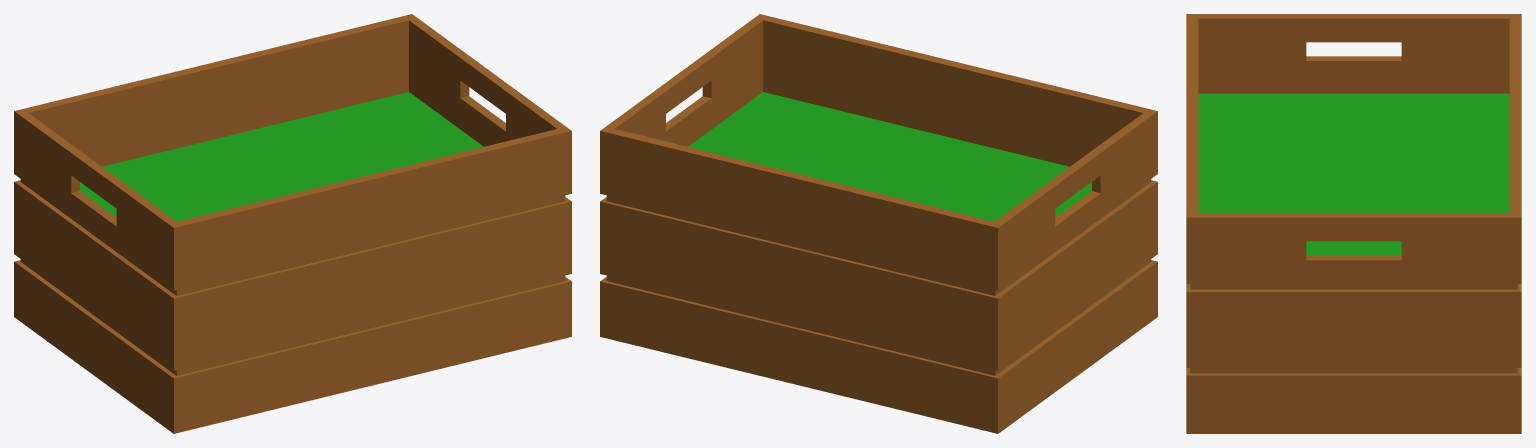
Rendered from wood_box.fbx.
3 views of the same model, side by side, from view 1: azimuth 30°, elevation 25°; view 2: azimuth 150°, elevation 25°; view 3: azimuth 270°, elevation 25° (orthographic). The views are drawn at different scales.
Visible parts, largest first — view 1: wood_box_1; view 2: wood_box_1; view 3: wood_box_1.
Part boxes in pixels (left/top/right/bottom): wood_box_1: left=14, top=14, right=571, bottom=433; wood_box_1: left=600, top=14, right=1157, bottom=433; wood_box_1: left=1186, top=14, right=1521, bottom=433.
Size of the model in its own units: 1.15 by 0.5666 by 0.7962.
